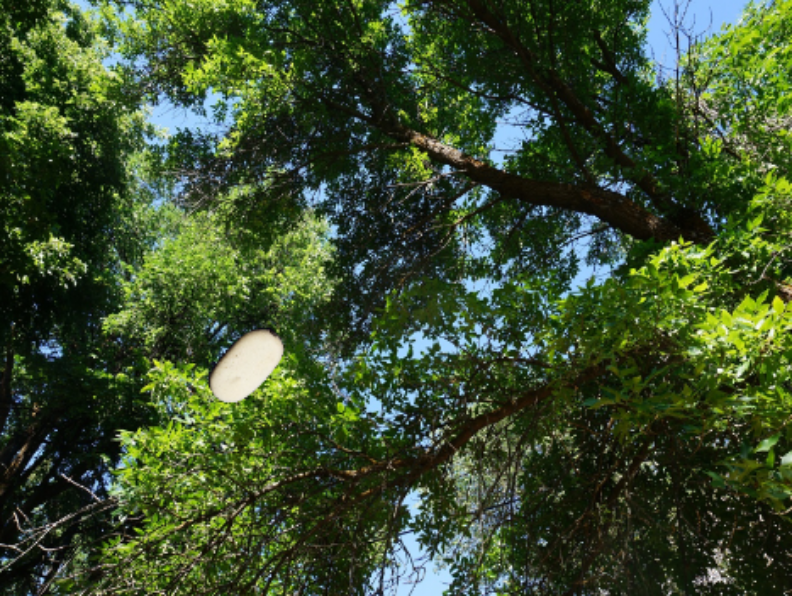test: (201, 320, 288, 404)
